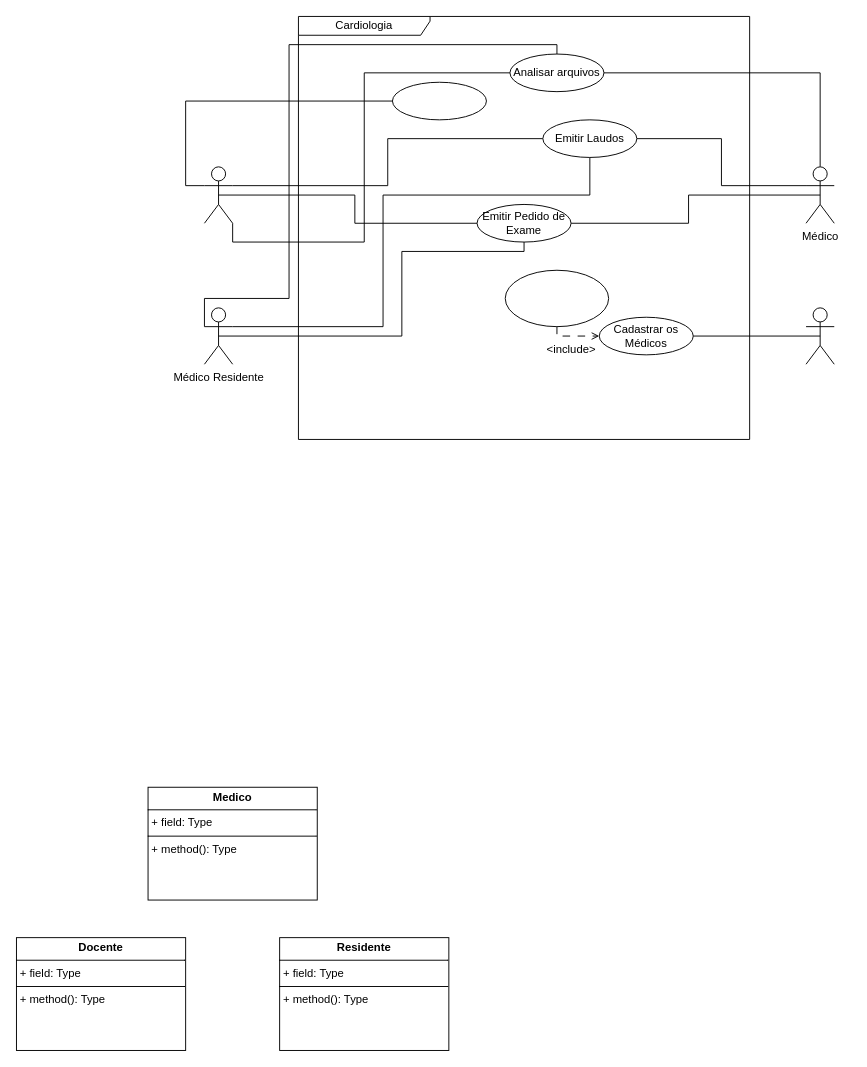
Some shapes in this 867 by 1067 pixel diagram are drawn without their labels. The shapes that lost their labels are listed below. From the top down, each one's centre as x and y in pixels, then its label:
point 439,100: Analisar Laudos do Residente
point 218,194: Médico Docente
point 556,298: Cadastrar papéis específicos para os Médicos
point 819,335: Admistrador
